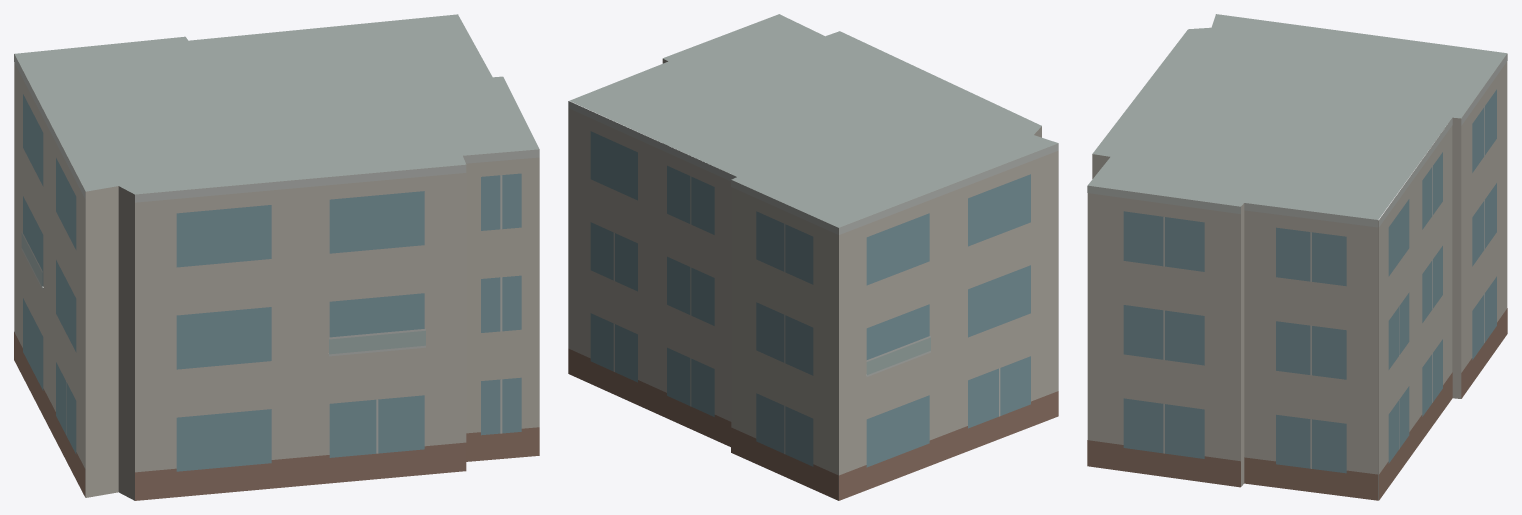
File: survey-upis-33043501.glb
The picture shows the model from 3 angles, left to right: view 1: azimuth 30°, elevation 25°; view 2: azimuth 150°, elevation 25°; view 3: azimuth 270°, elevation 25°; orthographic projection. The views are drawn at different scales.
Parts seen in each view (by area): view 1: survey-upis-33043501.tmp; view 2: survey-upis-33043501.tmp; view 3: survey-upis-33043501.tmp.
Boxes of the visible parts, x1,y1,x2,y2 form: survey-upis-33043501.tmp: (14, 14, 539, 500); survey-upis-33043501.tmp: (568, 14, 1058, 500); survey-upis-33043501.tmp: (1087, 14, 1507, 500).
Size of the model in its own units: 14.43 by 9.15 by 12.42.
